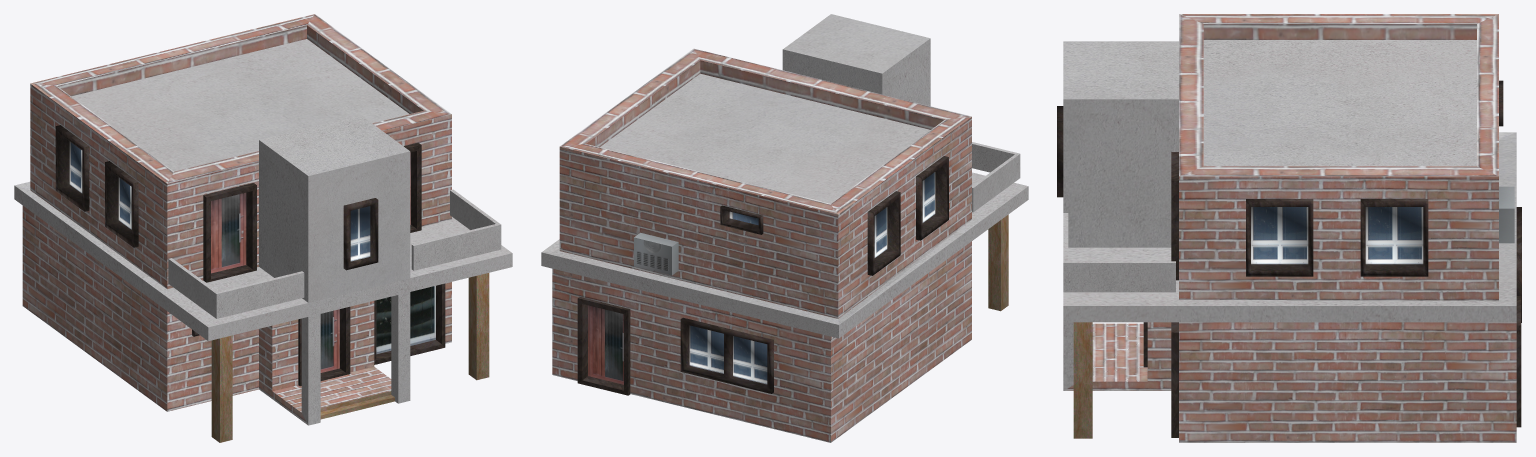
The model's file is family_house_04.glb.
3 renders of one model, left to right at view 1: azimuth 30°, elevation 25°; view 2: azimuth 150°, elevation 25°; view 3: azimuth 270°, elevation 25°, orthographic. The views are drawn at different scales.
Parts seen in each view (by area): view 1: house5_baked_Cube.064; view 2: house5_baked_Cube.064; view 3: house5_baked_Cube.064.
Boxes of the visible parts, bbox=[...] form: house5_baked_Cube.064: bbox=[14, 14, 512, 442]; house5_baked_Cube.064: bbox=[541, 14, 1028, 442]; house5_baked_Cube.064: bbox=[1057, 14, 1521, 442].
Size of the model in its own units: 2.13 by 1.68 by 2.42.
1 material, 1 textured.
